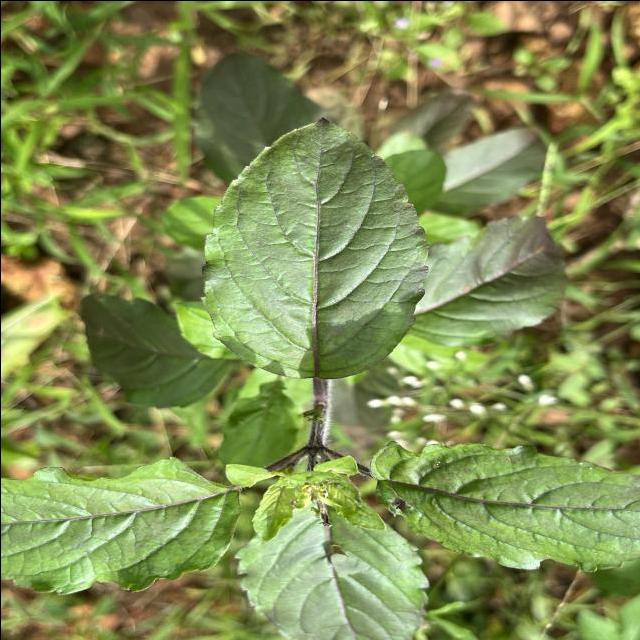Ocimum tenuiflorum: (198, 113, 432, 380)
